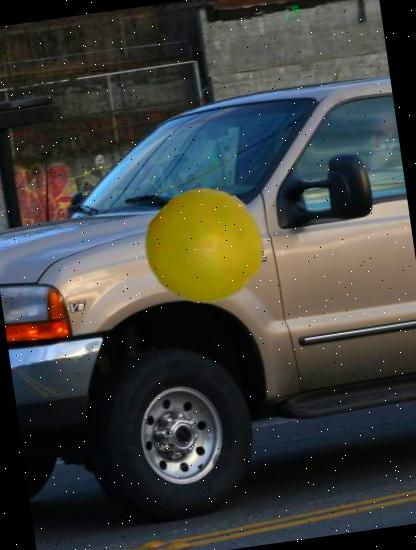Grape: (140, 182, 272, 312)
